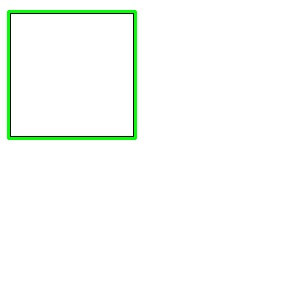line_segment: (7, 10, 137, 140)
